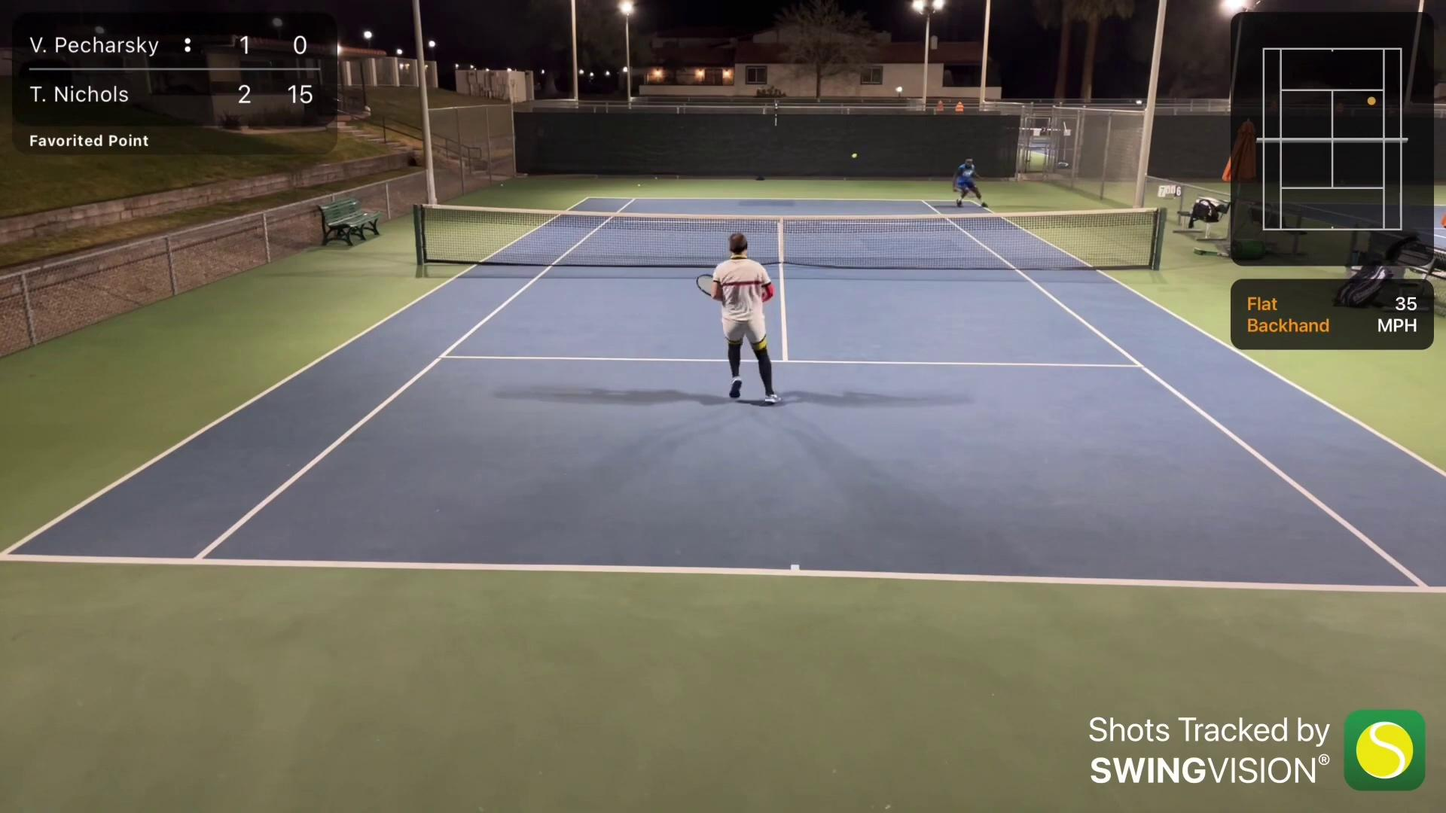ball: (850, 152, 856, 159)
